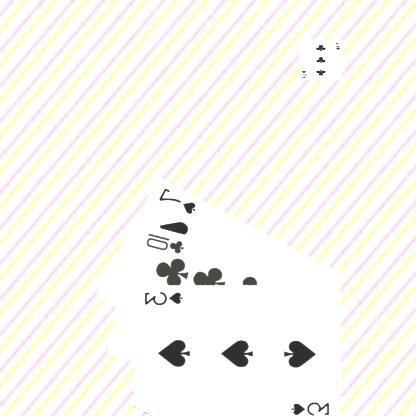10C: (145, 230, 188, 255)
3S: (144, 288, 186, 306), (290, 399, 332, 416)
7S: (158, 185, 199, 215)
